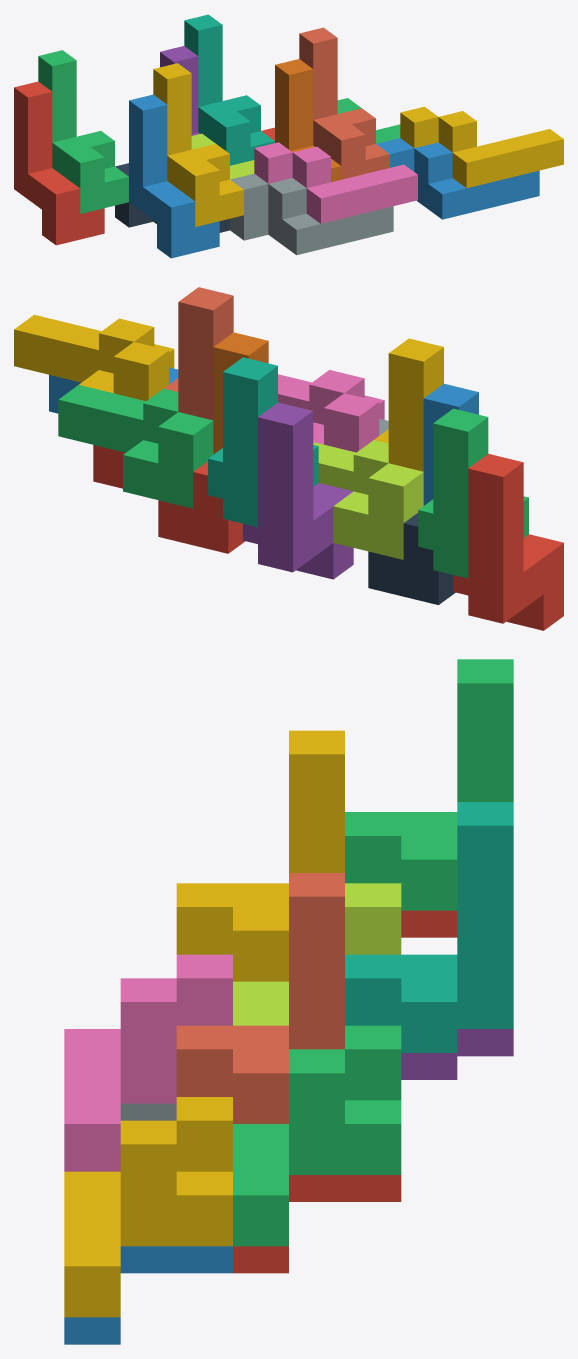
File: tiling.obj
3 renders of one model, top to bottom at view 1: azimuth 30°, elevation 25°; view 2: azimuth 150°, elevation 25°; view 3: azimuth 270°, elevation 25°, orthographic. The views are drawn at different scales.
Visible parts, largest first — view 1: copy_1_domain_2, copy_1_domain_1, copy_2_domain_4, copy_2_domain_8, copy_1_domain_3, copy_1_domain_4, copy_2_domain_2, copy_1_domain_8, copy_1_domain_7, copy_2_domain_6, copy_1_domain_6, copy_1_domain_5 (+3 smaller); view 2: copy_1_domain_1, copy_1_domain_5, copy_2_domain_7, copy_2_domain_8, copy_2_domain_3, copy_1_domain_3, copy_1_domain_7, copy_2_domain_4, copy_1_domain_8, copy_1_domain_4, copy_2_domain_5, copy_2_domain_1 (+3 smaller); view 3: copy_2_domain_8, copy_1_domain_7, copy_2_domain_7, copy_1_domain_8, copy_2_domain_4, copy_1_domain_3, copy_1_domain_4, copy_2_domain_3, copy_2_domain_6, copy_2_domain_5, copy_1_domain_5, copy_1_domain_1 (+1 smaller).
Boxes of the visible parts, <box> form: copy_1_domain_2: <box>129,94,219,258</box>; copy_1_domain_1: <box>14,81,104,245</box>; copy_2_domain_4: <box>254,142,417,223</box>; copy_2_domain_8: <box>400,106,563,188</box>; copy_1_domain_3: <box>38,50,128,213</box>; copy_1_domain_4: <box>153,63,243,226</box>; copy_2_domain_2: <box>230,173,393,255</box>; copy_1_domain_8: <box>299,27,389,179</box>; copy_1_domain_7: <box>184,14,274,165</box>; copy_2_domain_6: <box>376,138,539,219</box>; copy_1_domain_6: <box>275,59,341,182</box>; copy_1_domain_5: <box>160,46,199,135</box>; copy_1_domain_1: <box>453,454,563,630</box>; copy_1_domain_5: <box>243,402,353,579</box>; copy_2_domain_7: <box>58,385,213,508</box>; copy_2_domain_8: <box>14,314,174,400</box>; copy_2_domain_3: <box>313,440,423,559</box>; copy_1_domain_3: <box>418,408,528,578</box>; copy_1_domain_7: <box>208,357,318,527</box>; copy_2_domain_4: <box>278,370,384,452</box>; copy_1_domain_8: <box>164,287,233,420</box>; copy_1_domain_4: <box>374,338,443,471</box>; copy_2_domain_5: <box>93,445,245,553</box>; copy_2_domain_1: <box>368,513,455,604</box>; copy_2_domain_8: <box>64,1097,232,1317</box>; copy_1_domain_7: <box>345,802,513,1052</box>; copy_2_domain_7: <box>233,1025,401,1246</box>; copy_1_domain_8: <box>176,873,344,1123</box>; copy_2_domain_4: <box>64,954,232,1171</box>; copy_1_domain_3: <box>345,659,513,910</box>; copy_1_domain_4: <box>176,730,344,981</box>; copy_2_domain_3: <box>233,883,401,1025</box>; copy_2_domain_6: <box>64,1246,232,1344</box>; copy_2_domain_5: <box>233,1175,401,1273</box>; copy_1_domain_5: <box>401,1029,513,1079</box>; copy_1_domain_1: <box>401,910,457,937</box>.
Bounding box in the file's own units: 18 × 6 × 8.
